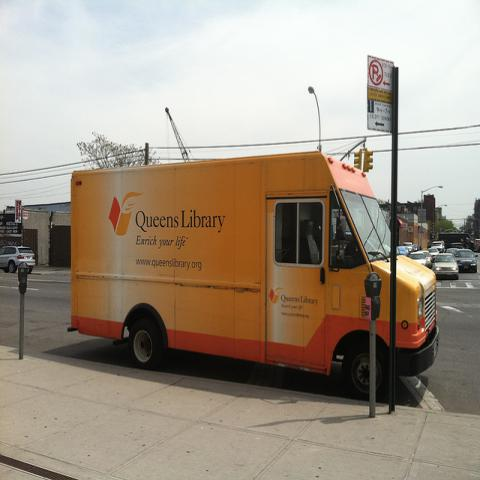car: (0, 245, 36, 274), (432, 253, 459, 281), (454, 248, 478, 272), (412, 250, 433, 268), (410, 252, 428, 266), (430, 241, 444, 253), (428, 248, 440, 260), (402, 241, 413, 252), (452, 243, 462, 254), (397, 247, 408, 256)
truck: (64, 155, 441, 405), (0, 246, 36, 274), (437, 234, 475, 252)
